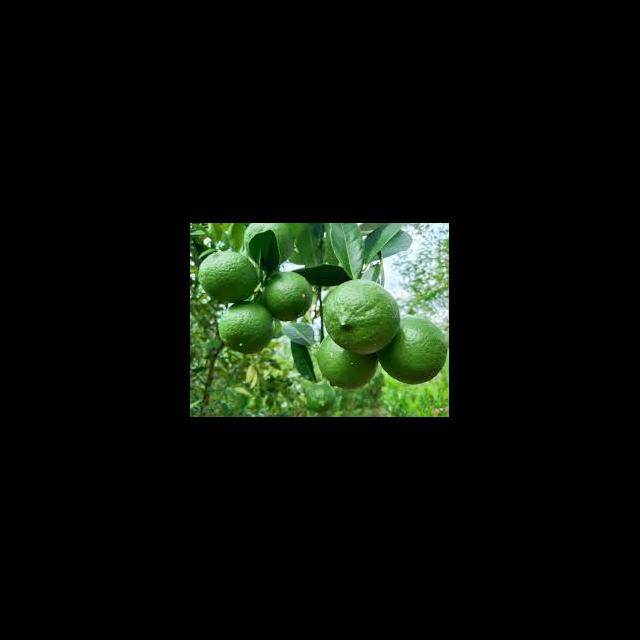lime: (318, 278, 406, 356), (374, 314, 448, 388), (313, 332, 386, 392), (195, 246, 262, 306), (216, 296, 280, 357), (263, 264, 314, 321)
